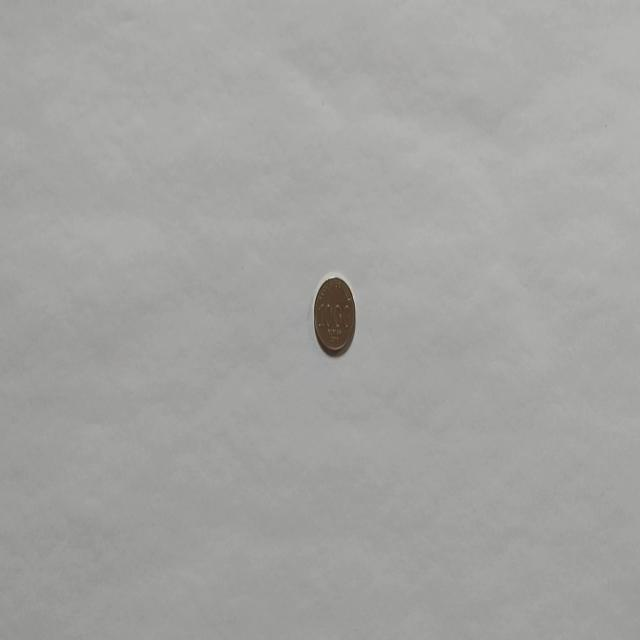seribu rupiah koin: (312, 272, 356, 356)
